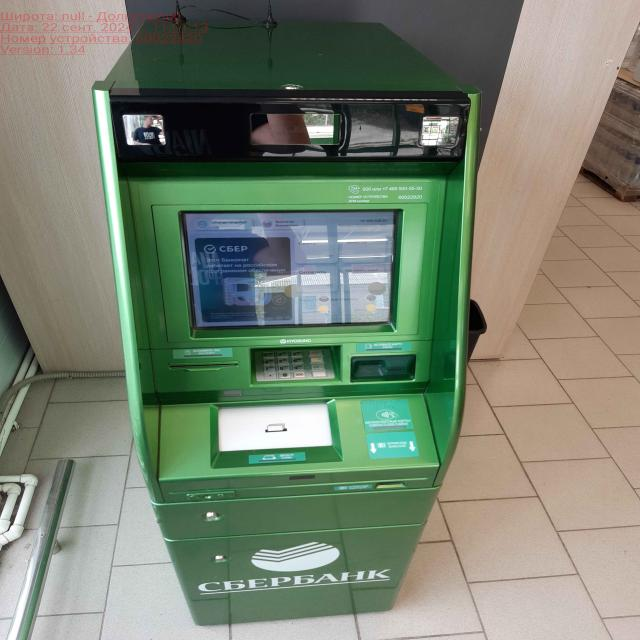bank: (96, 17, 481, 628)
